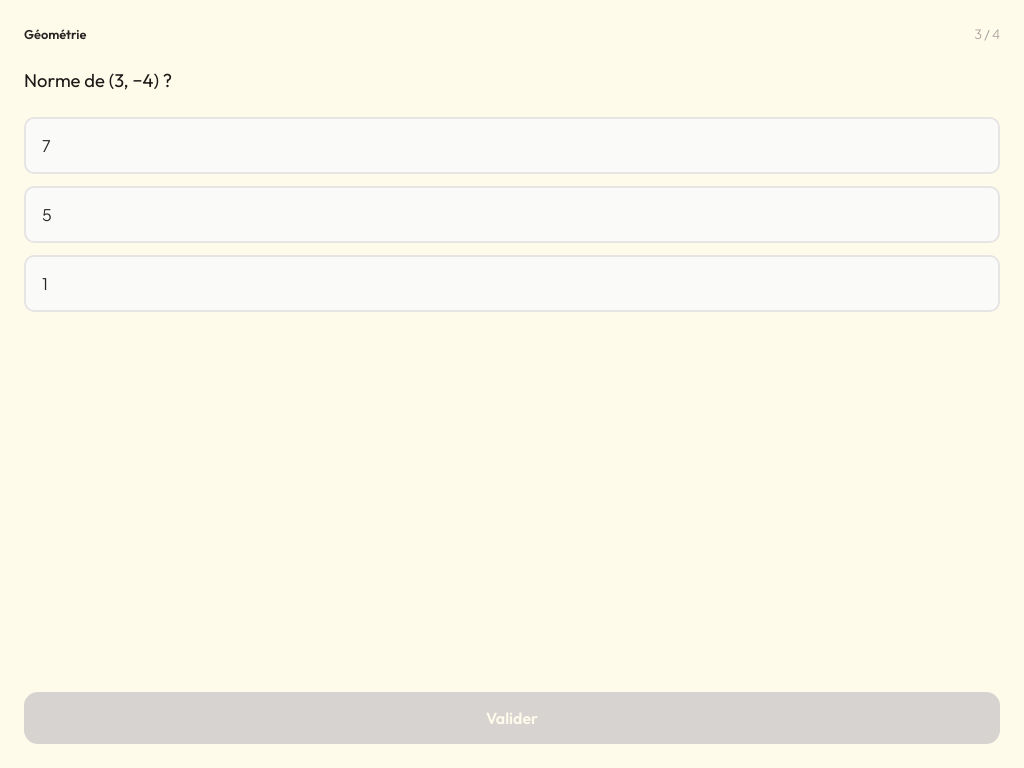
Test: QCMScreen (FO-06) › active Valider après sélection puis affiche l'explication (pas de chrono hors mode)
This screenshot has width=1024, height=768.
Click the button "5": (47, 215) [24,186,1000,243]
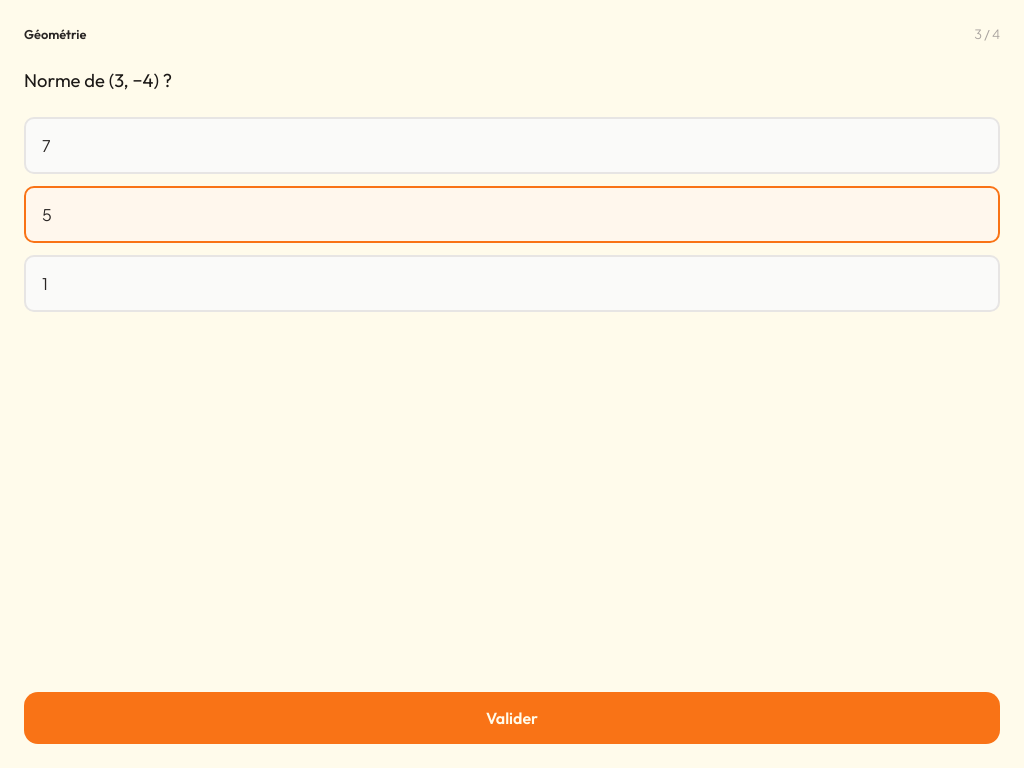
Click the button "Valider": (512, 718) [24,692,1000,744]
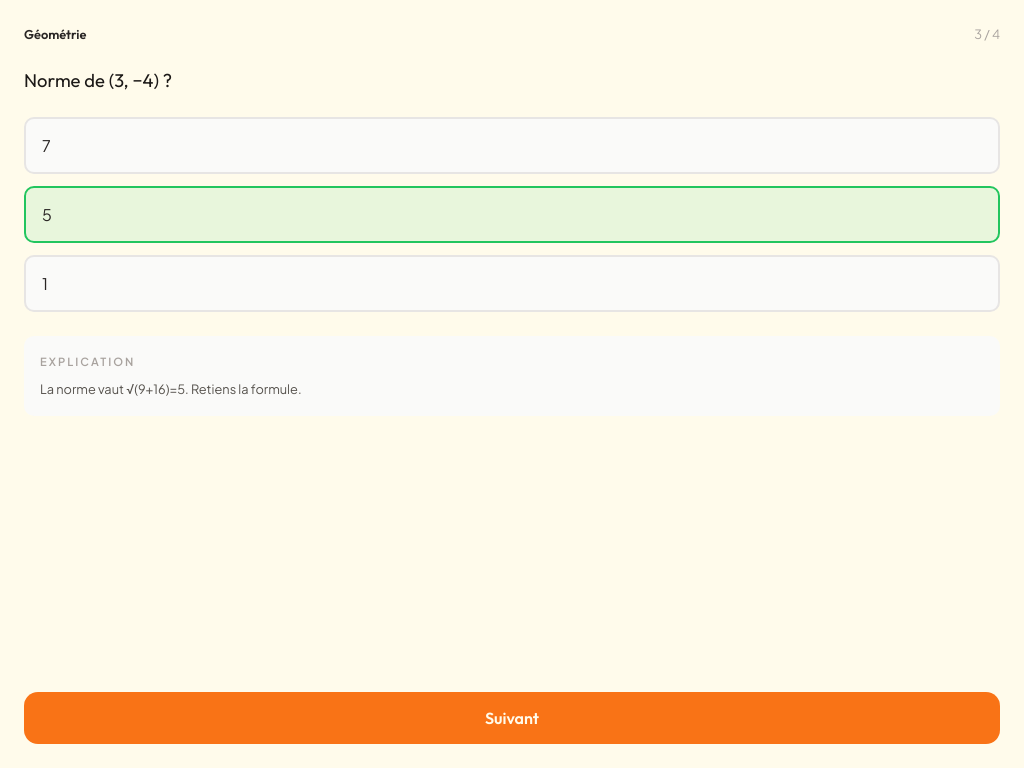
Now the text "Explication" is shown, box [40,354,135,368]
Now the text "La norme vaut √(9+16)=5. Retiens la formule." is shown, box [40,380,302,396]
